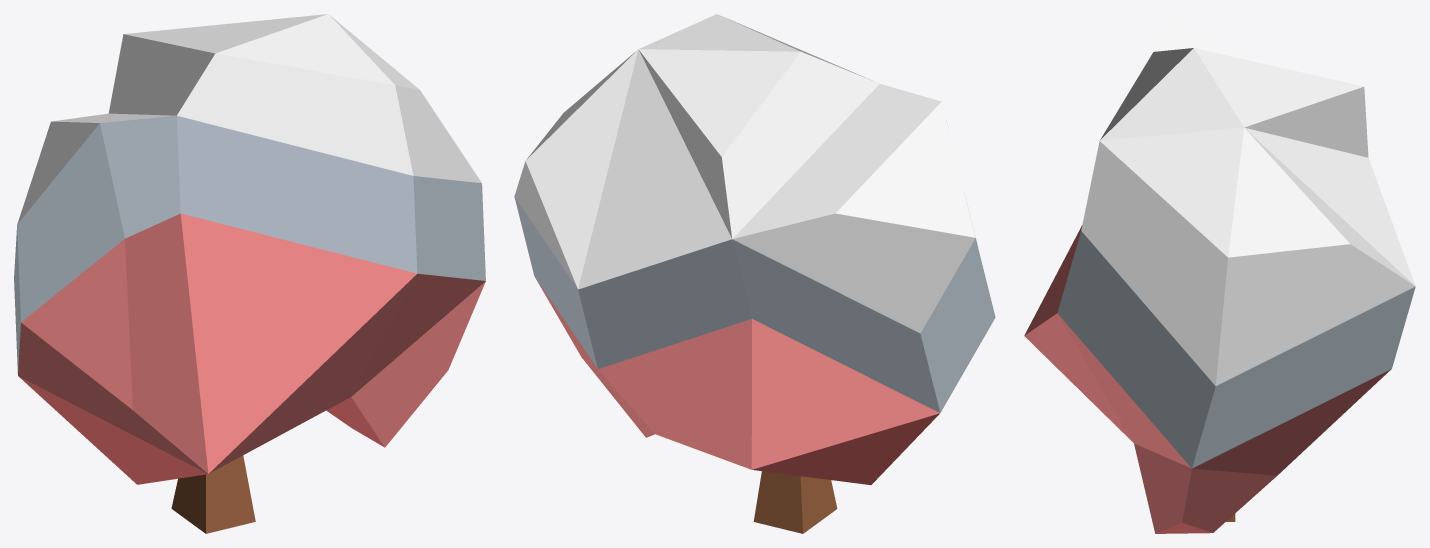
Rendered from BushWinter4_Alt1.fbx.
3 views of the same model, side by side, from view 1: azimuth 30°, elevation 25°; view 2: azimuth 150°, elevation 25°; view 3: azimuth 270°, elevation 25° (orthographic).
Parts seen in each view (by area): view 1: BushWinter4_Alt1; view 2: BushWinter4_Alt1; view 3: BushWinter4_Alt1.
Boxes of the visible parts, x1,y1,x2,y2 form: BushWinter4_Alt1: (14, 14, 485, 533); BushWinter4_Alt1: (514, 14, 995, 533); BushWinter4_Alt1: (1024, 14, 1415, 533).
Size of the model in its own units: 0.4744 by 0.4457 by 0.343.
